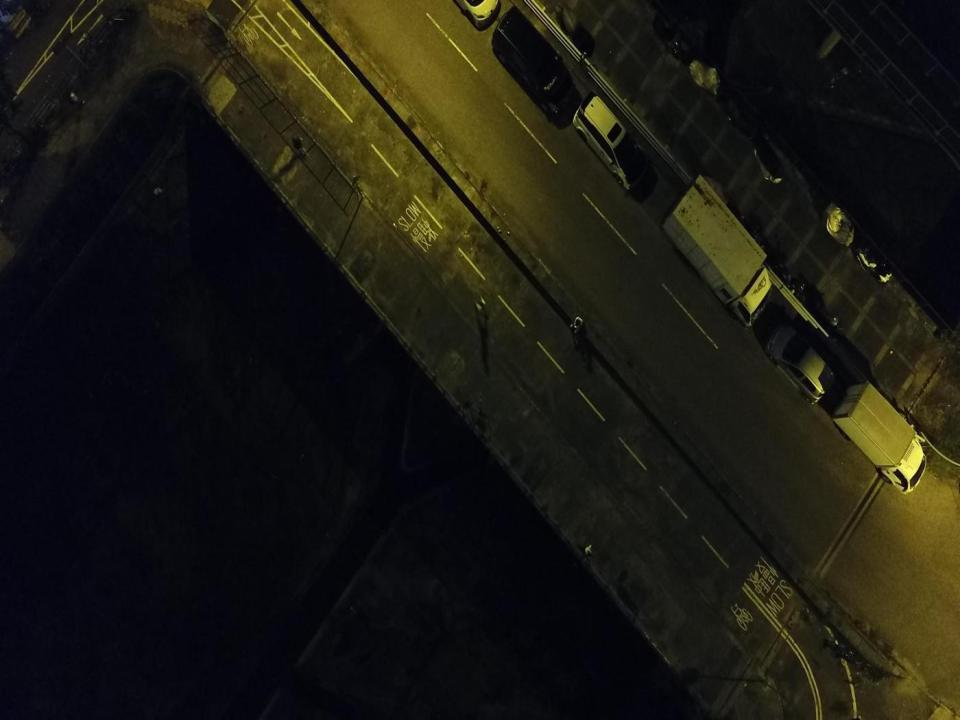car: (491, 4, 577, 118), (572, 90, 650, 191), (765, 323, 833, 405)
truck: (662, 174, 772, 330), (832, 380, 928, 494)
